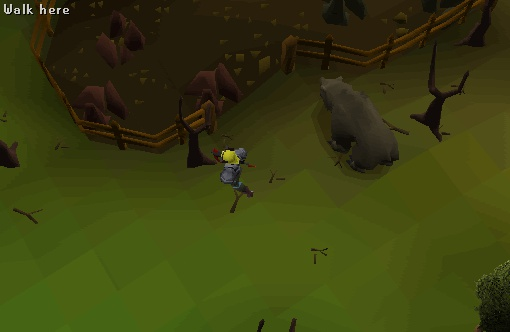iron: (59, 74, 138, 134), (169, 54, 248, 114)
